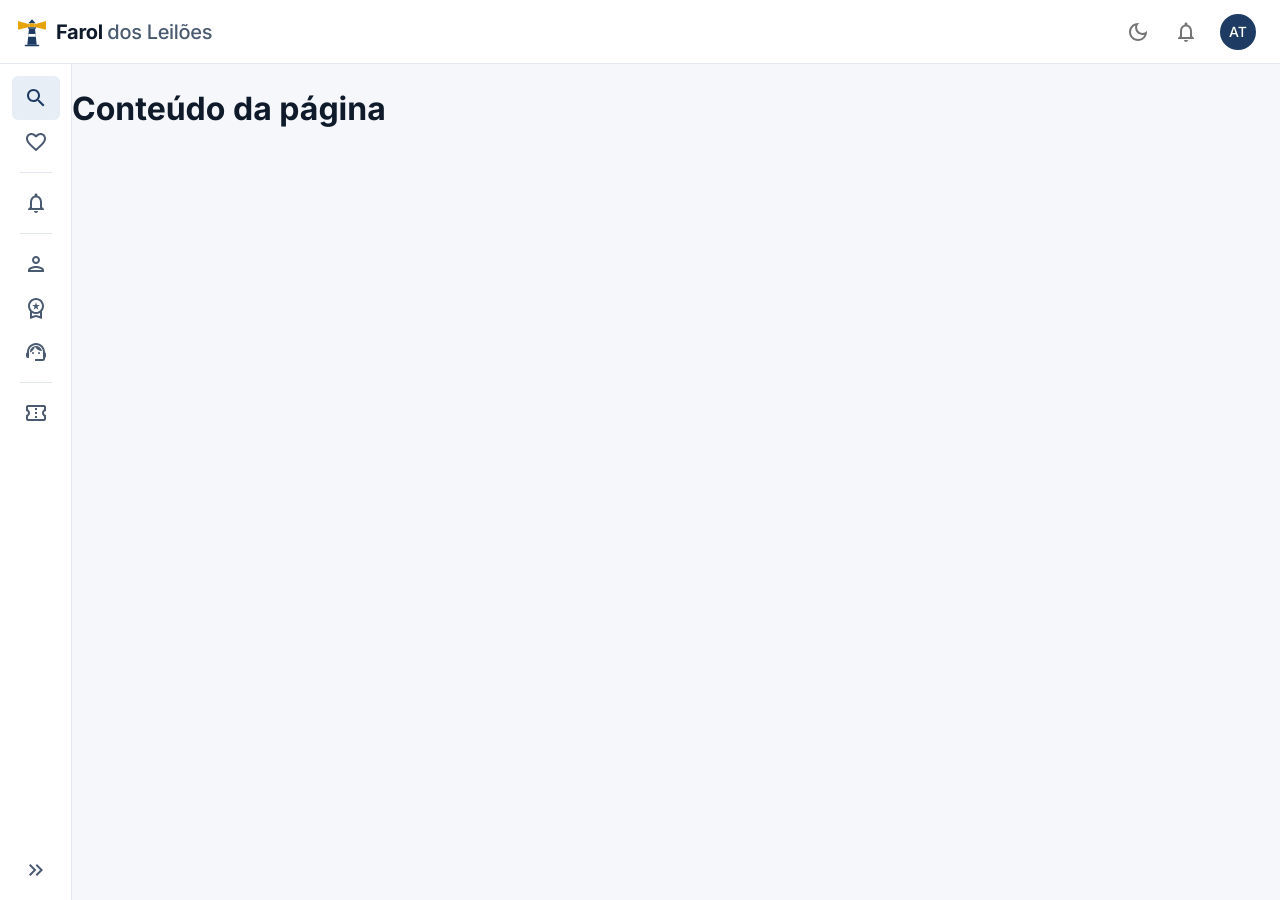
Scenario: AppShell — rail (md–lg) › still pins when storage throws
Click the button named "Expandir menu": [36, 870] box x1=14 y1=848 x2=58 y2=892
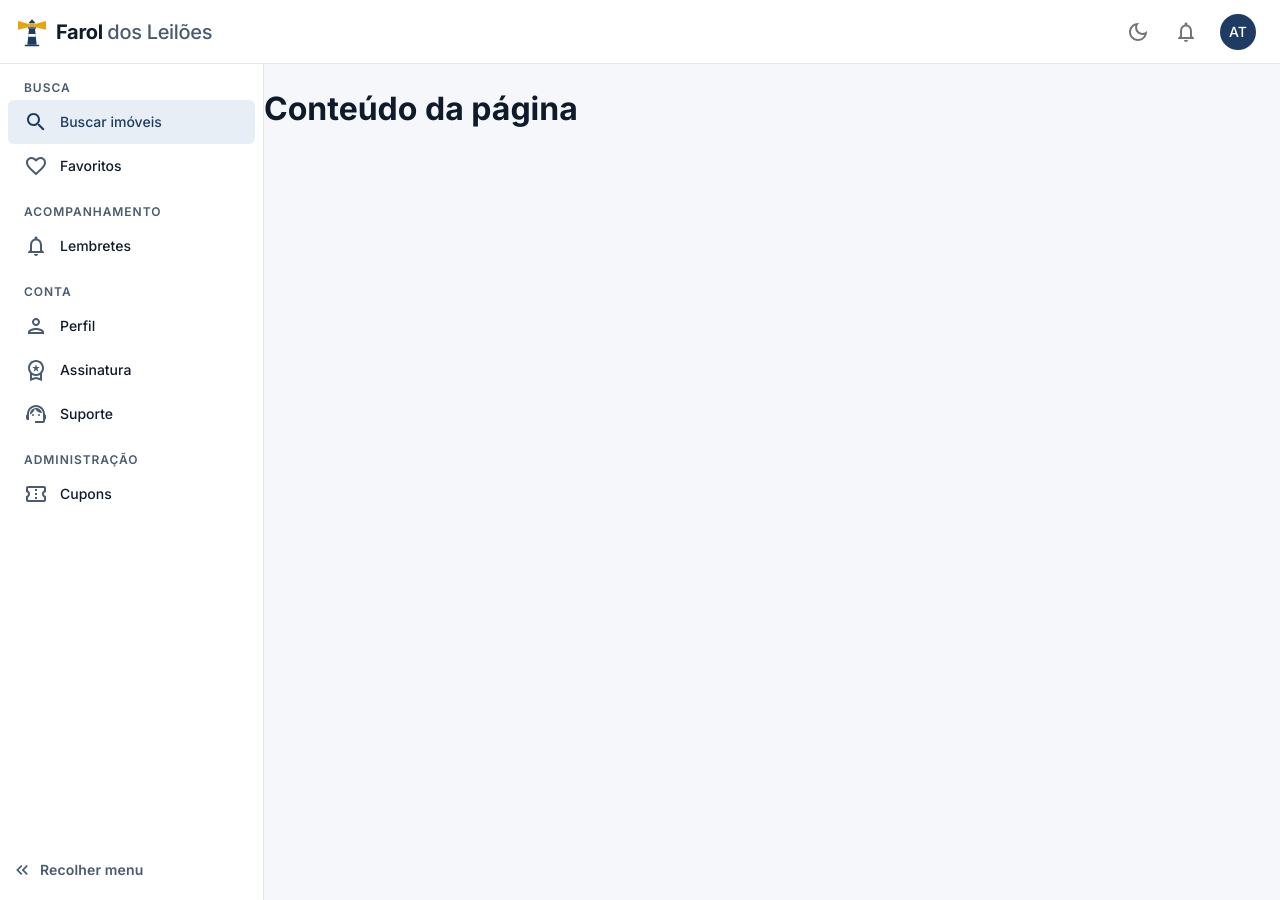
expect the button "Recolher menu" is shown: met, box x1=8 y1=848 x2=151 y2=892
